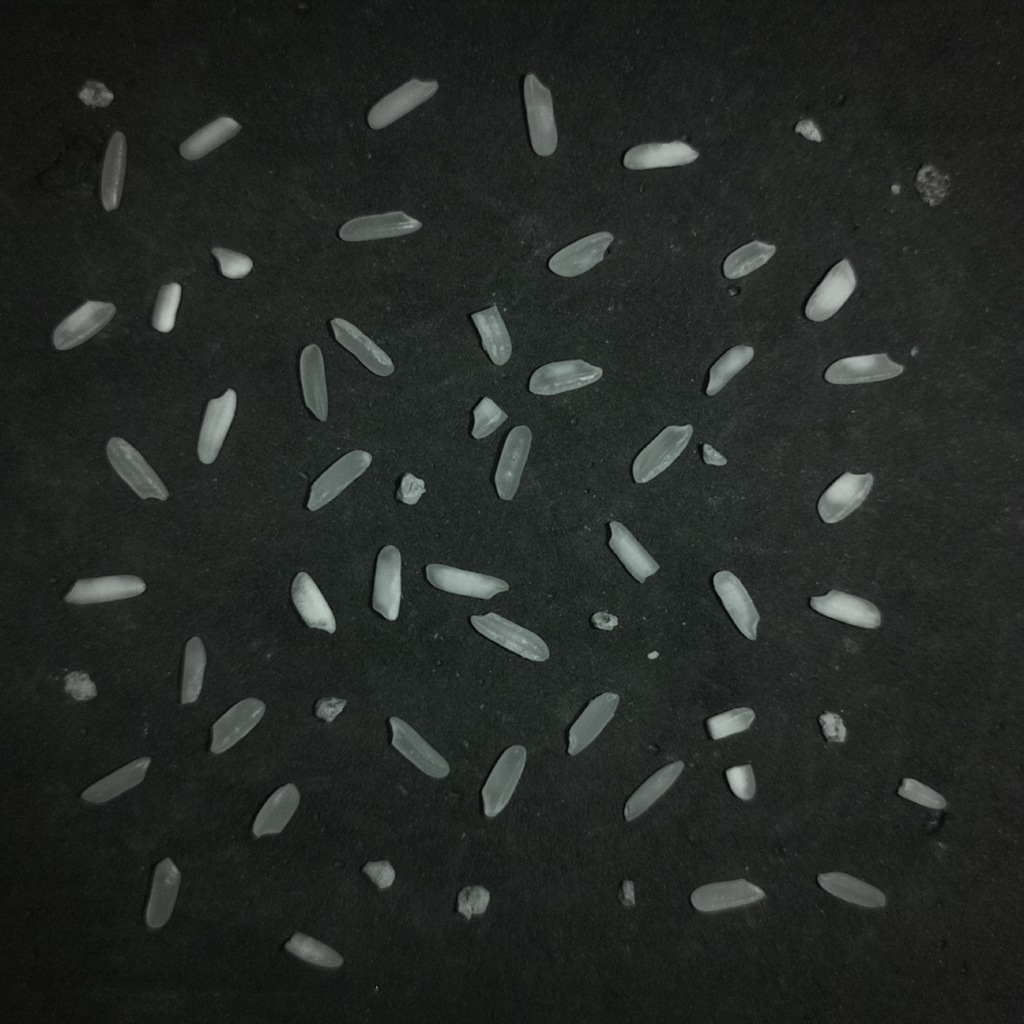chalky: (470, 612, 548, 661), (367, 78, 437, 129), (52, 300, 115, 350), (713, 570, 758, 640), (805, 259, 855, 321), (609, 521, 658, 582), (197, 388, 236, 464), (426, 563, 508, 599), (817, 472, 873, 523), (809, 590, 880, 628), (180, 116, 240, 160), (292, 572, 335, 633), (529, 359, 601, 395), (824, 353, 903, 384), (471, 305, 511, 365), (705, 346, 753, 395), (64, 575, 145, 604), (372, 545, 401, 620), (623, 140, 698, 169), (284, 932, 342, 968), (897, 777, 946, 810), (705, 707, 755, 739), (151, 282, 181, 333), (471, 396, 506, 438), (211, 247, 253, 279), (456, 885, 489, 920), (725, 764, 755, 800), (361, 860, 395, 889)
foreign: (916, 164, 949, 204), (395, 472, 426, 505), (64, 671, 96, 701), (79, 80, 112, 106), (818, 712, 846, 742), (314, 697, 346, 723), (794, 118, 822, 142), (701, 442, 726, 466), (619, 879, 635, 908), (591, 612, 616, 629)
whole: (105, 437, 167, 500), (307, 449, 371, 510), (389, 717, 449, 778), (624, 760, 684, 821), (330, 318, 393, 376), (632, 425, 692, 483), (481, 745, 526, 817), (81, 757, 150, 803), (567, 692, 618, 754), (210, 697, 265, 753), (548, 231, 613, 277), (523, 73, 557, 156), (494, 425, 531, 499), (252, 783, 299, 837), (690, 878, 764, 912), (145, 858, 180, 929), (817, 872, 886, 908), (339, 211, 421, 241), (300, 345, 328, 421), (722, 240, 776, 279), (101, 132, 126, 211), (180, 636, 206, 703)
